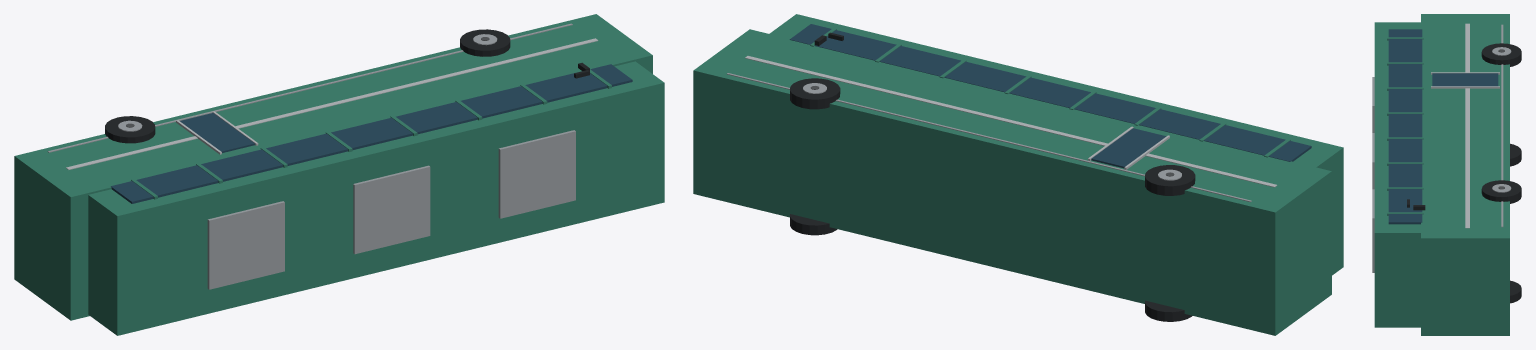
Rendered from RM_Bus_20.glb.
3 renders of one model, left to right at view 1: azimuth 30°, elevation 25°; view 2: azimuth 150°, elevation 25°; view 3: azimuth 270°, elevation 25°, orthographic. The views are drawn at different scales.
Visible parts, largest first — view 1: part_001, part_000, part_002, part_037, part_038, part_039, part_013, part_040, part_014, part_024, part_030; view 2: part_000, part_002, part_001, part_013, part_040, part_030, part_024, part_014, part_027, part_021; view 3: part_000, part_001, part_002, part_013, part_040, part_024, part_030, part_014, part_039, part_021, part_027, part_042 (+5 smaller).
Boxes of the visible parts, x1,y1,x2,y2 form: part_001: (88,61,664,335); part_000: (14,14,652,320); part_002: (111,64,632,203); part_037: (207,201,284,289); part_038: (353,165,430,254); part_039: (498,130,575,218); part_013: (66,38,598,169); part_040: (180,113,254,152); part_014: (47,23,572,152); part_024: (105,116,155,143); part_030: (460,29,510,56); part_000: (693,29,1331,335); part_002: (789,24,1311,161); part_001: (769,14,1343,275); part_013: (745,56,1277,187); part_040: (1091,128,1166,168); part_030: (790,78,840,109); part_024: (1145,165,1195,195); part_014: (727,73,1251,202); part_027: (790,214,837,235); part_021: (1145,300,1192,321); part_000: (1421,14,1509,335); part_001: (1374,22,1420,327); part_002: (1388,29,1422,224); part_013: (1465,23,1469,228); part_040: (1432,73,1498,86); part_024: (1481,43,1521,66); part_030: (1481,180,1521,203); part_014: (1501,24,1503,227); part_039: (1372,189,1374,272); part_021: (1510,143,1521,166); part_027: (1510,280,1521,303); part_042: (1431,86,1499,88).
Size of the model in its own units: 12.48 by 2.85 by 3.51.
